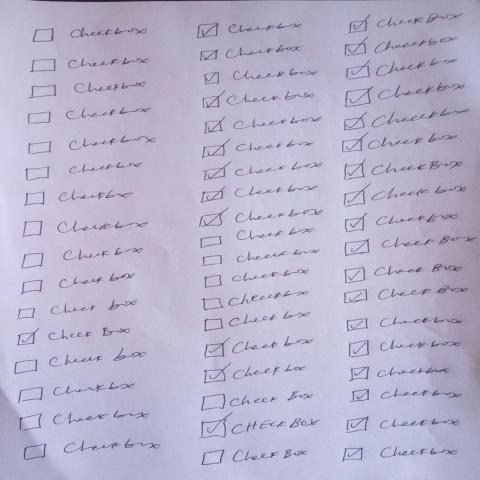Check Box: (14, 348, 148, 376), (344, 82, 467, 109), (200, 413, 321, 440), (23, 439, 162, 462), (343, 183, 468, 208), (343, 157, 463, 182), (21, 247, 144, 271), (344, 236, 478, 258), (19, 410, 151, 432), (28, 134, 158, 156), (343, 110, 471, 132), (348, 12, 464, 36), (20, 272, 136, 296), (203, 159, 324, 182), (18, 382, 137, 405), (346, 57, 460, 81), (200, 227, 316, 250), (204, 336, 315, 360), (17, 300, 138, 322), (344, 263, 464, 285), (342, 132, 460, 154), (27, 106, 154, 126), (202, 138, 316, 160), (201, 391, 315, 413), (204, 115, 323, 136), (22, 220, 150, 239), (202, 89, 317, 110), (345, 213, 460, 234), (28, 81, 148, 101), (344, 286, 470, 305), (201, 248, 320, 268), (203, 290, 311, 312), (204, 311, 312, 333), (26, 162, 143, 182), (203, 363, 307, 385), (344, 37, 458, 57), (17, 327, 131, 347), (204, 268, 311, 289), (203, 68, 320, 87), (345, 416, 461, 435), (348, 340, 462, 359), (29, 57, 152, 74), (23, 190, 135, 208), (31, 27, 149, 44), (199, 44, 303, 63), (200, 449, 309, 467), (342, 447, 459, 463), (195, 23, 304, 40), (350, 388, 463, 404), (347, 317, 464, 332), (349, 367, 450, 383)
